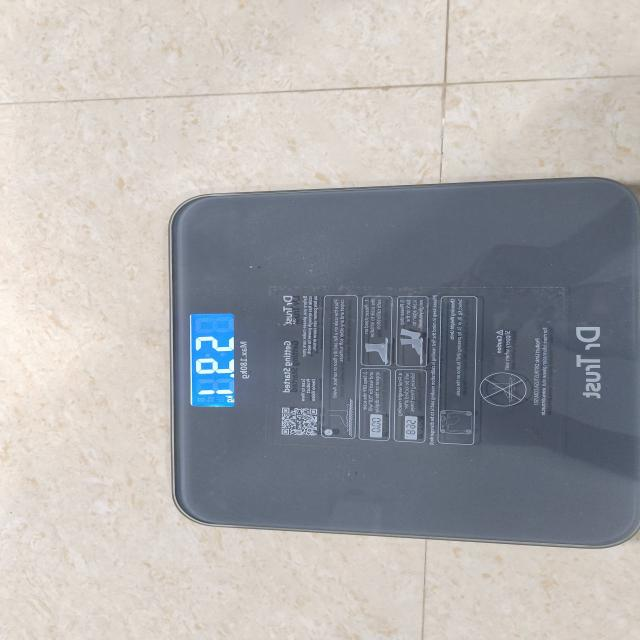ws: (167, 178, 640, 552)
